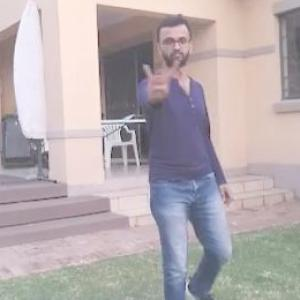takeoff-hand: (133, 47, 182, 104)
